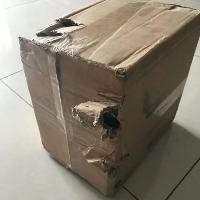damaged package: (76, 101, 123, 144), (27, 15, 85, 46), (86, 152, 124, 174)
undamaged: (14, 0, 198, 198)
